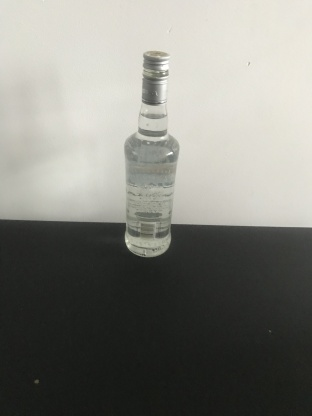nakretka: (140, 48, 171, 106)
